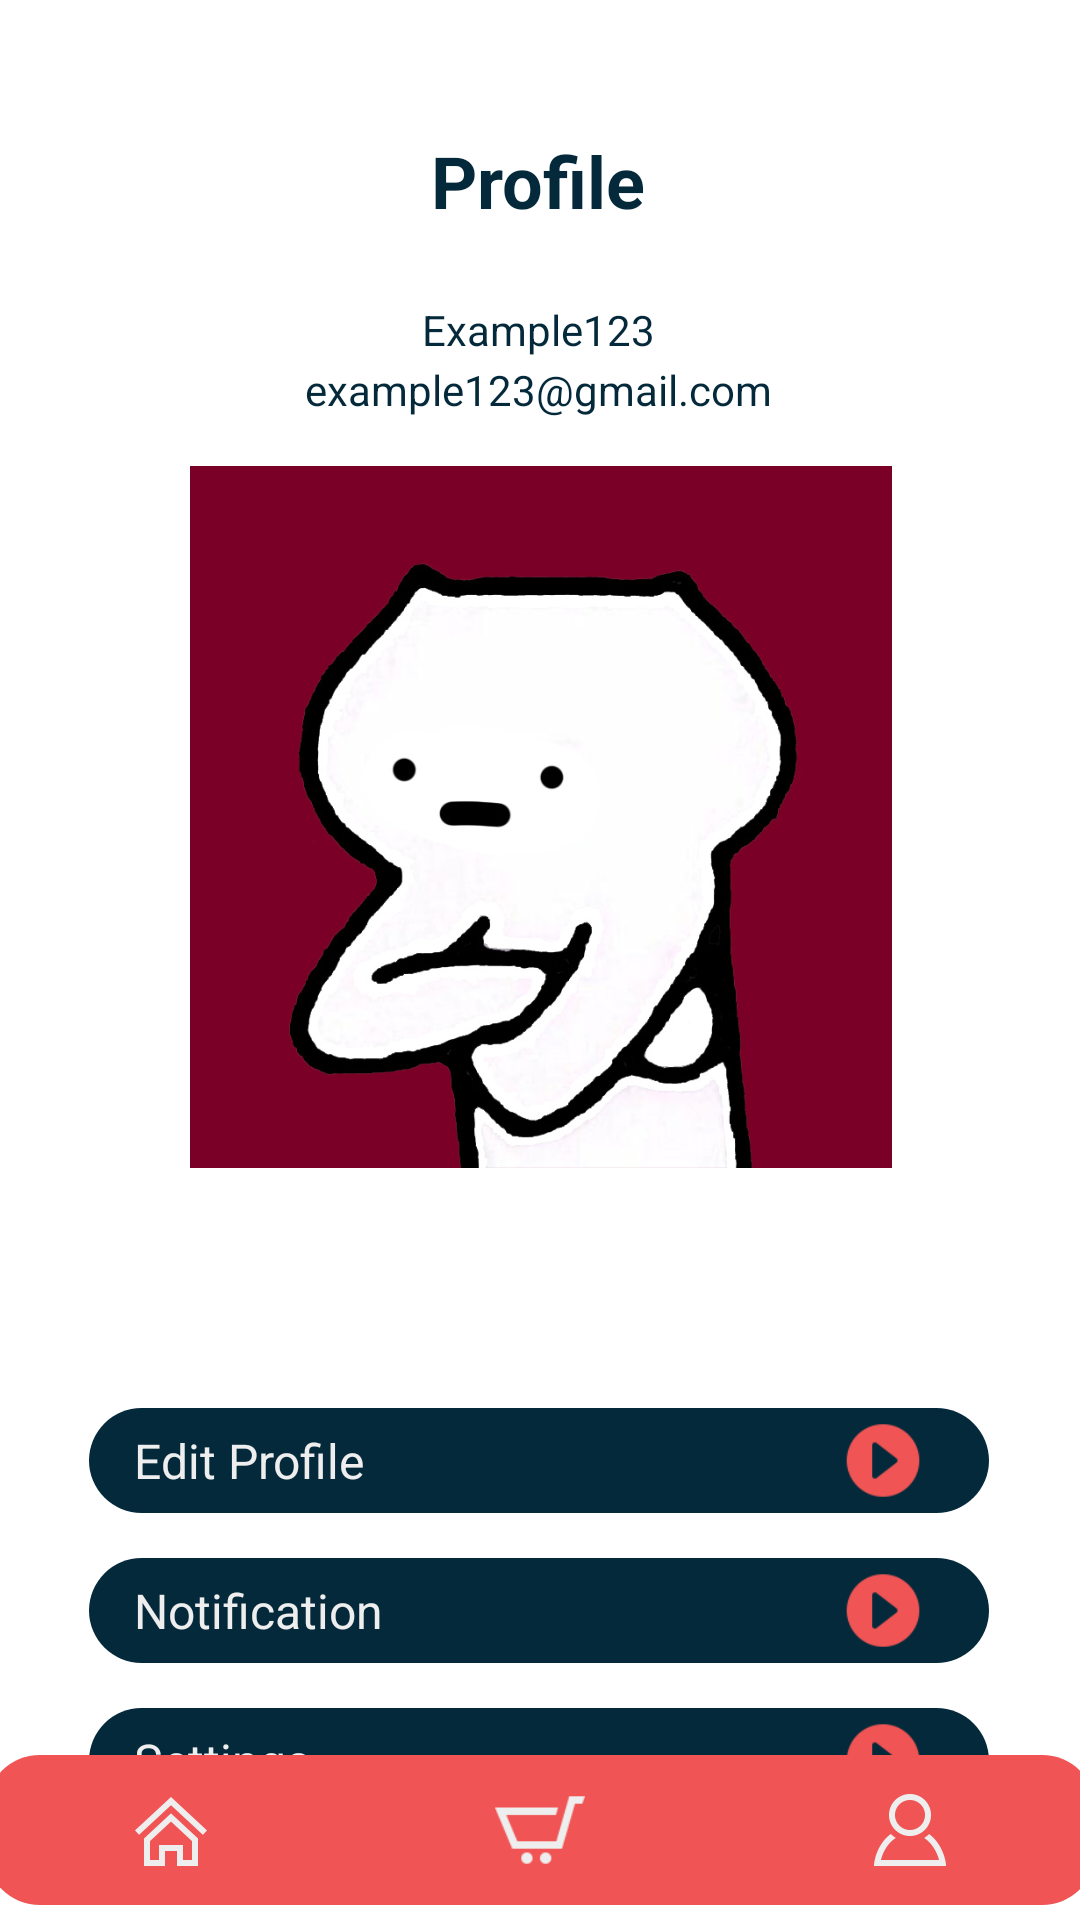

Screen size 1080 × 1920. Icon name, then its center in pixels as (x,y):
cart: (540,1830)
home: (171,1831)
user: (910,1830)
